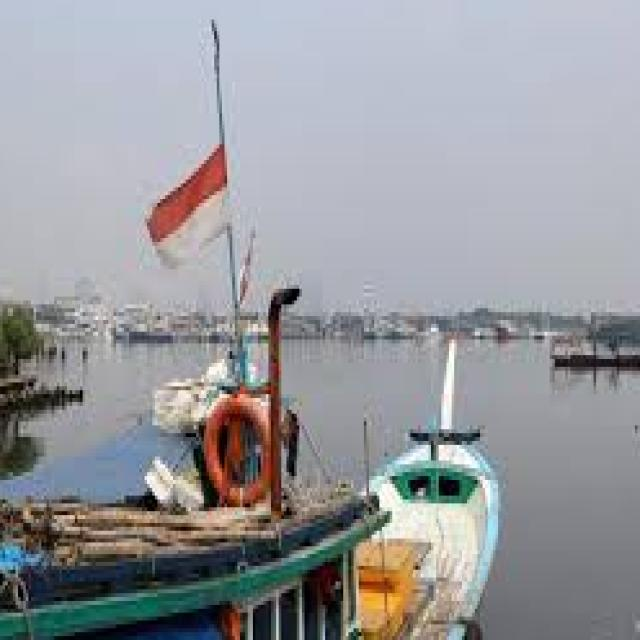fishing boat: (0, 328, 521, 640)
